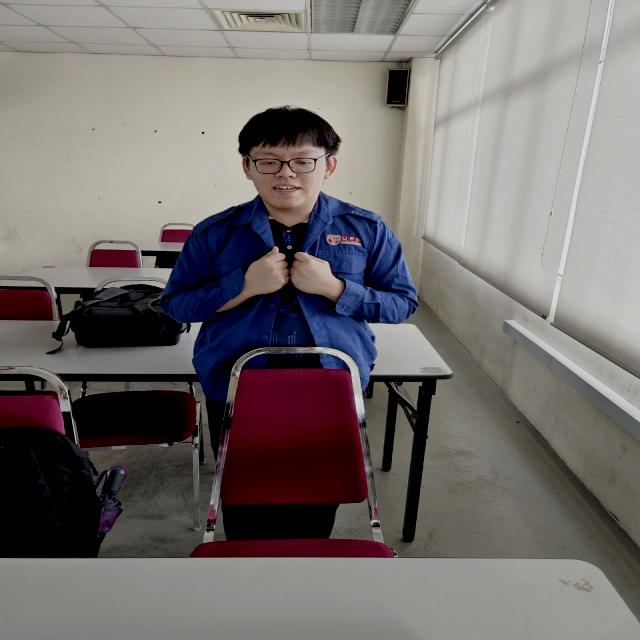person_with_labcoat: (161, 106, 417, 452)
